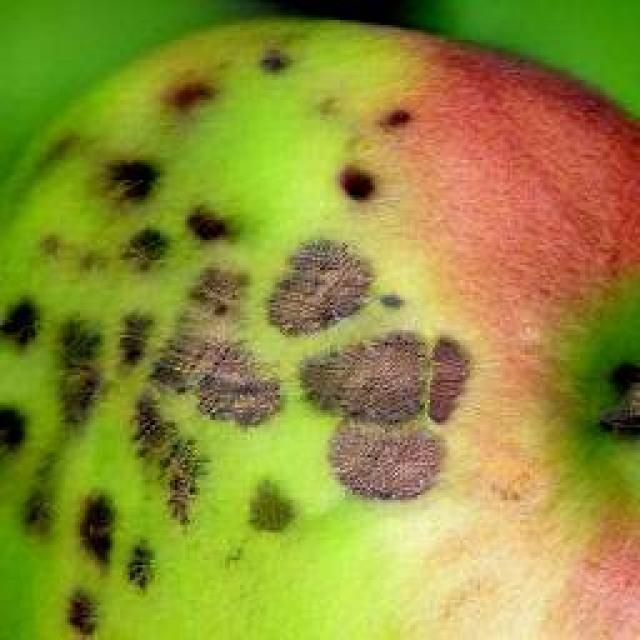defective: (0, 10, 638, 638)
